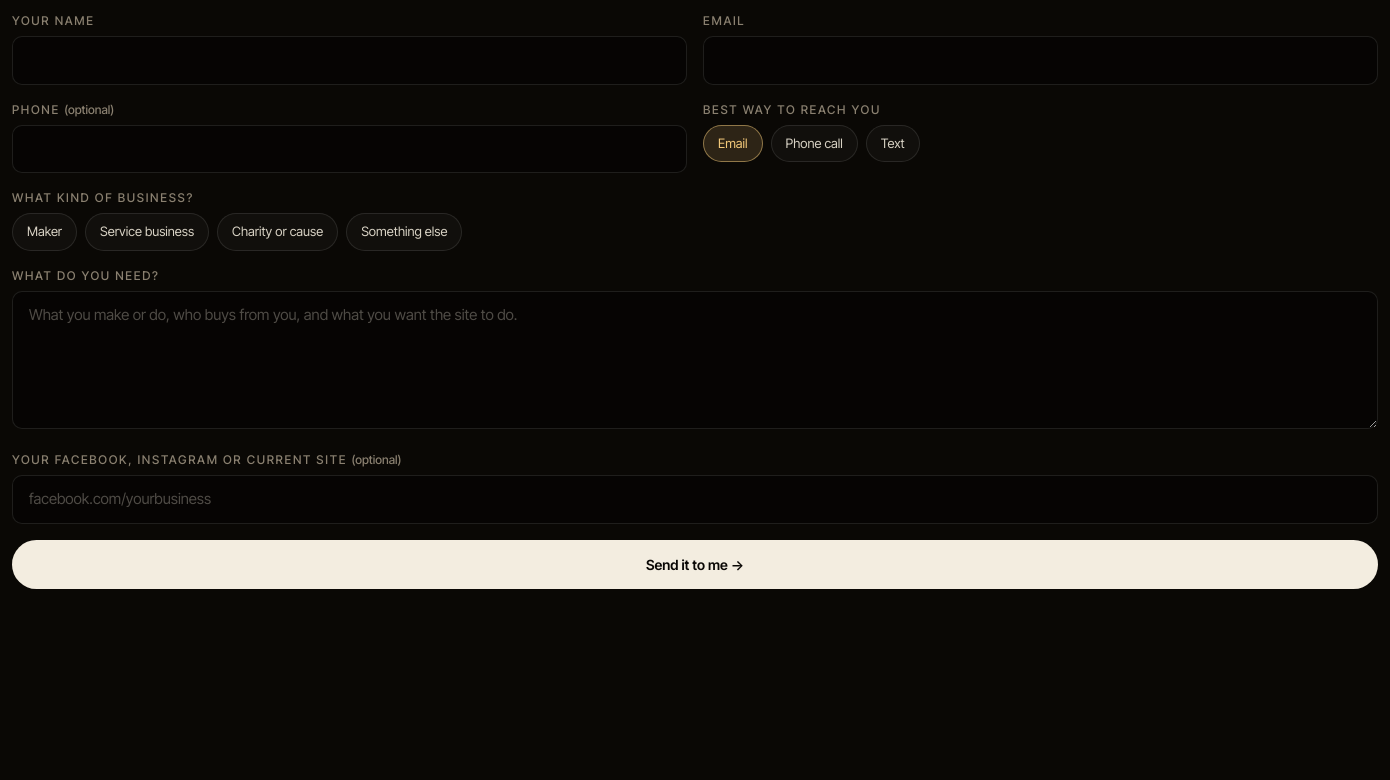
Test case: InquiryForm › posts JSON and shows the thank-you
Type "Pat" into the field labelled "Your name". click: (350, 60)
box: [12,36,687,84]
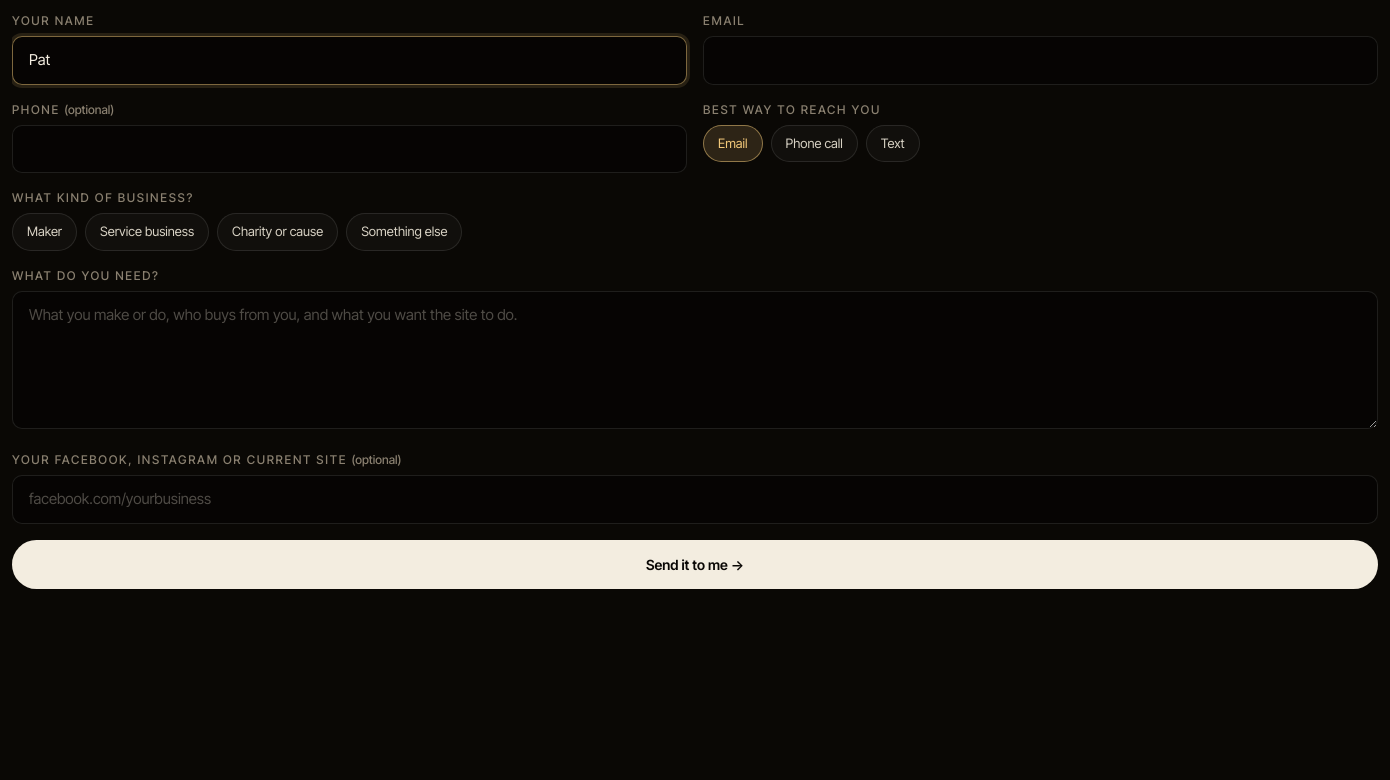
Type "pat@example.com" into the field labelled "Email". click: (1040, 60)
box: [703,36,1378,84]
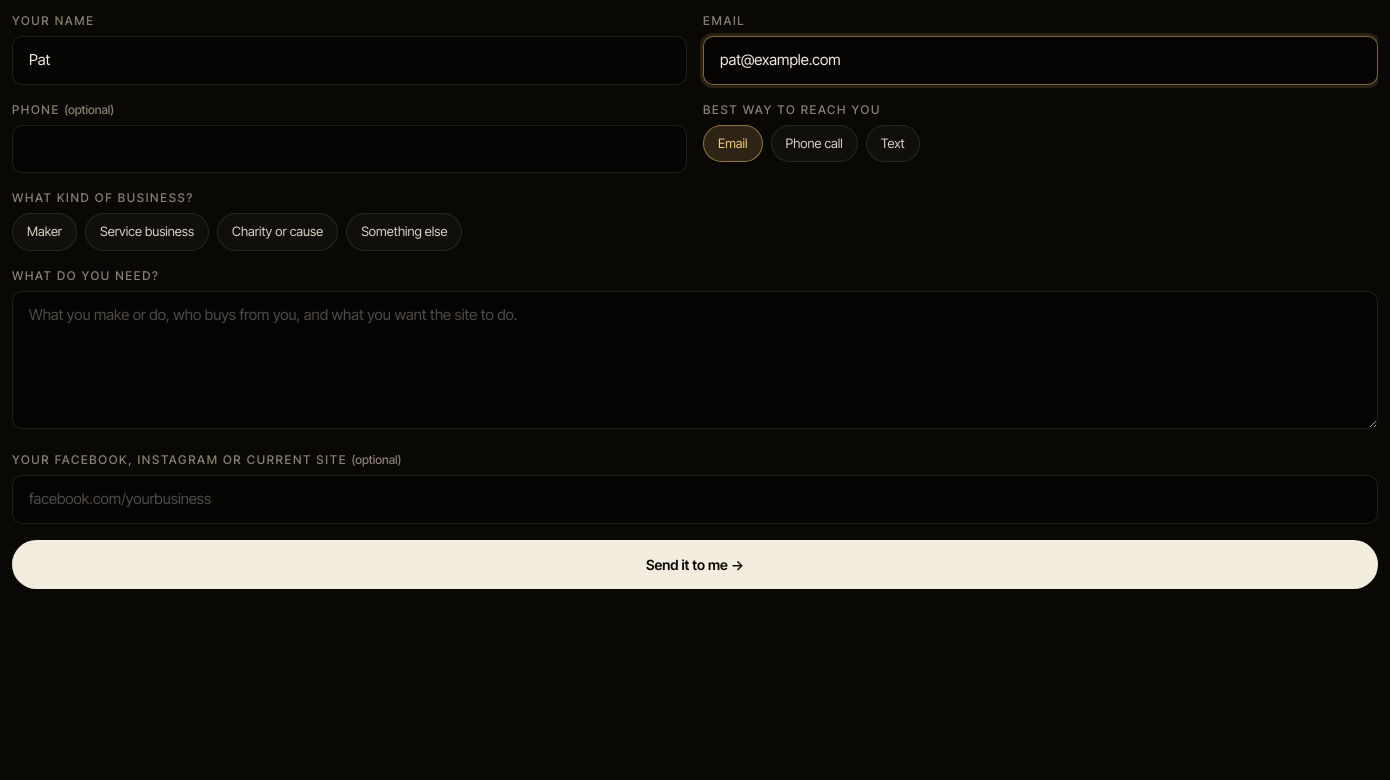
Click the radio button labelled "Charity or cause". click: (278, 232)
box: [217,213,338,250]
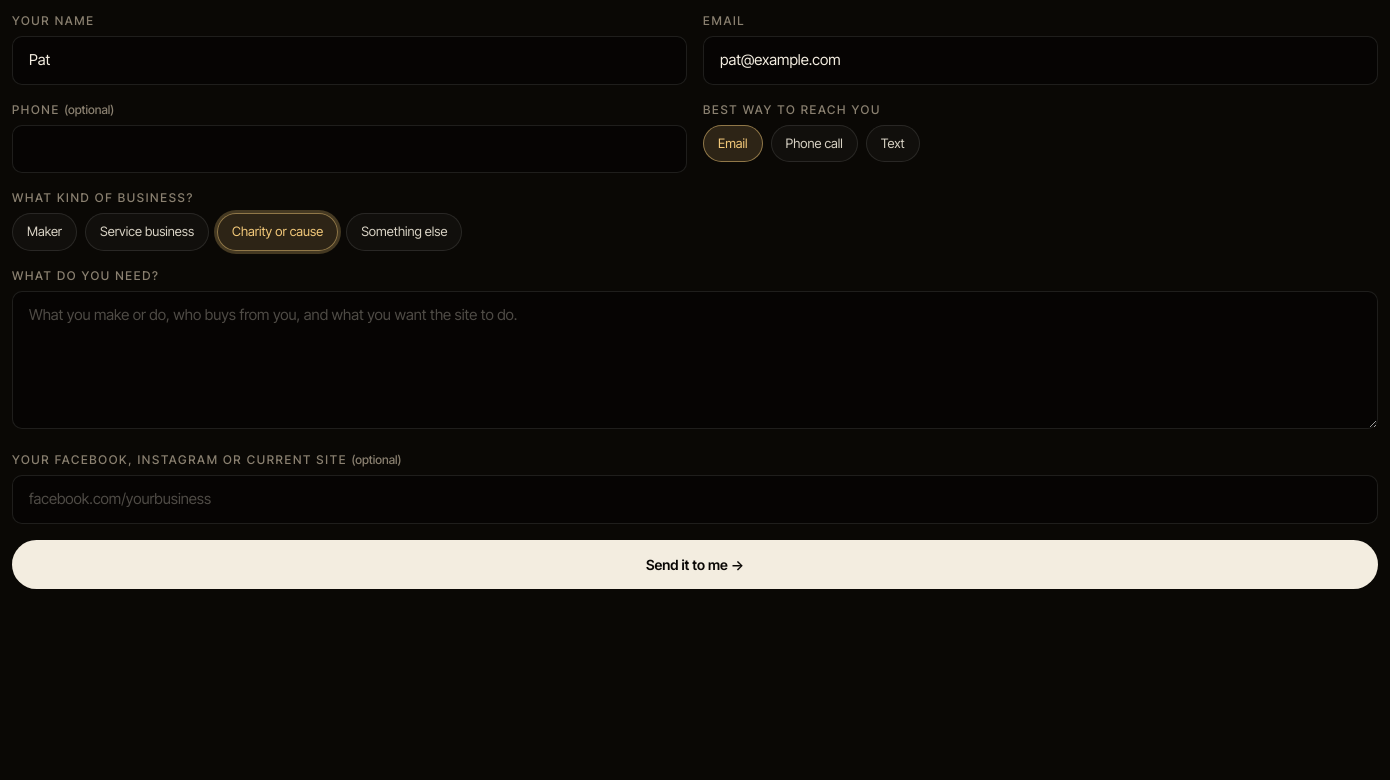
Type "A donate page" into the text box labelled "What do you need?". click: (695, 360)
box: [12,290,1378,429]
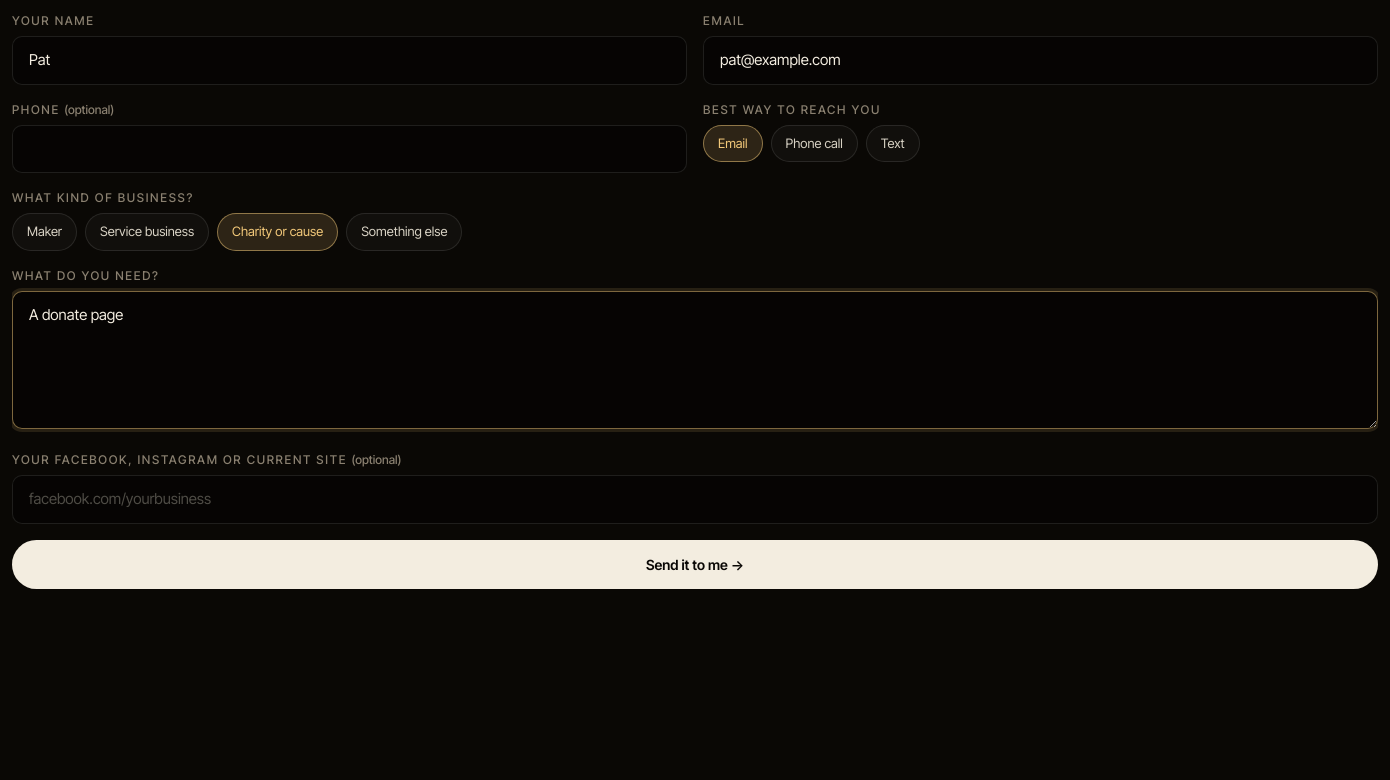
Click the button "Send it to me →". click: (695, 564)
box: [12,540,1378,588]
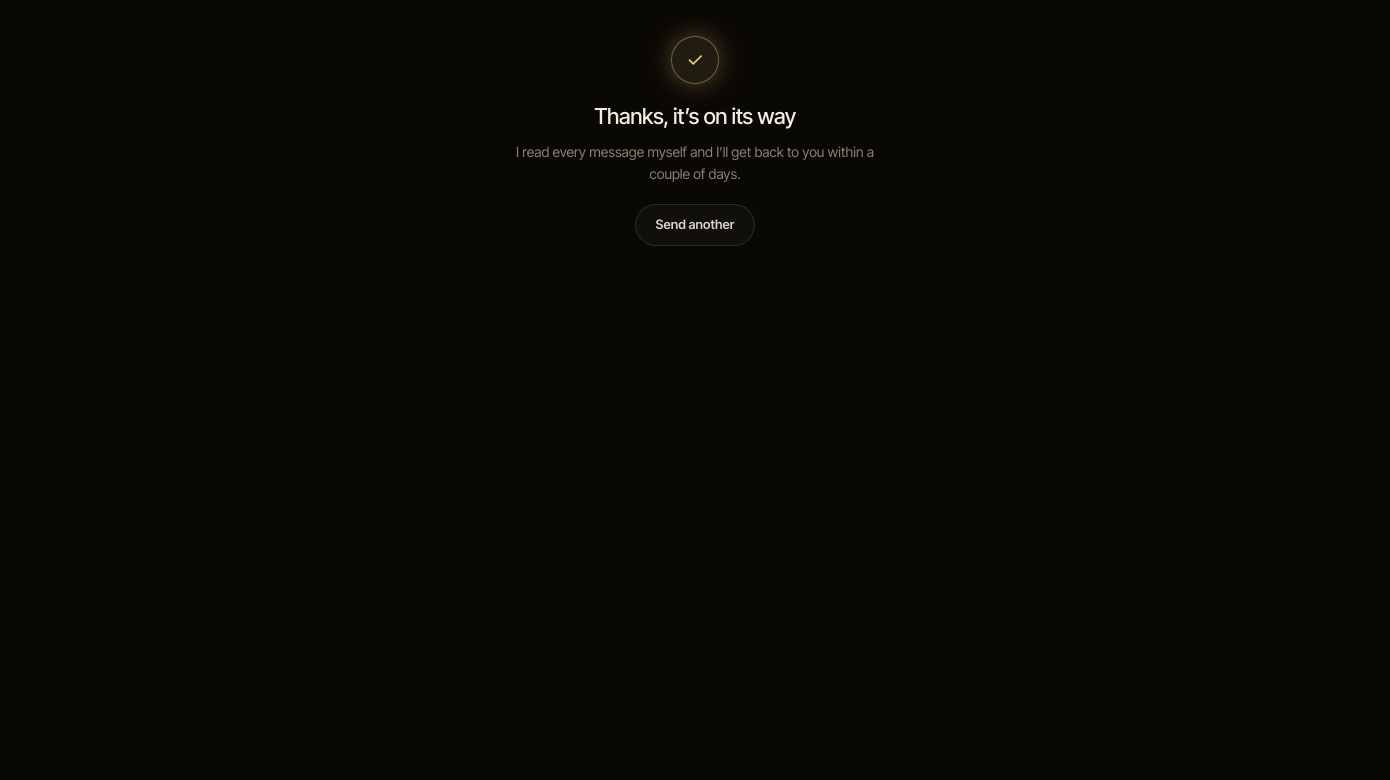
Check: the message shows "Thanks", box [594,103,796,129]
